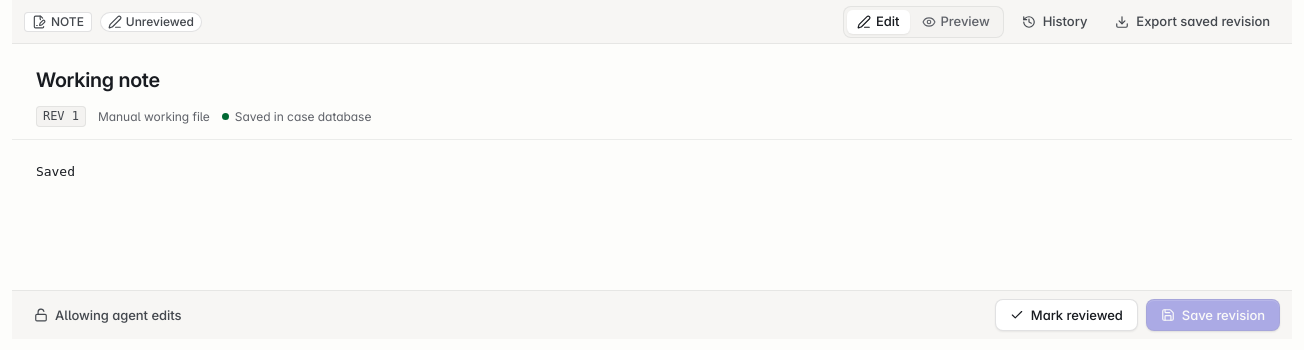
Scenario: switches between editing and preview with pressed-state buttons
This screenshot has width=1304, height=350.
Click the button "Preview": (956, 22) top-left (912, 10), bottom-right (1000, 34)
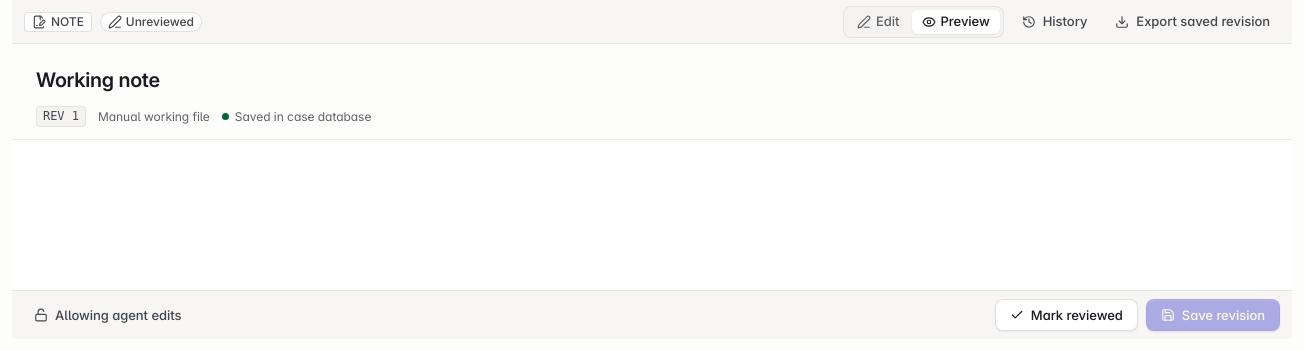
Result: the button "Preview" is pressed at top-left (912, 10), bottom-right (1000, 34)
Click the button "Edit": (878, 22) top-left (847, 10), bottom-right (910, 34)
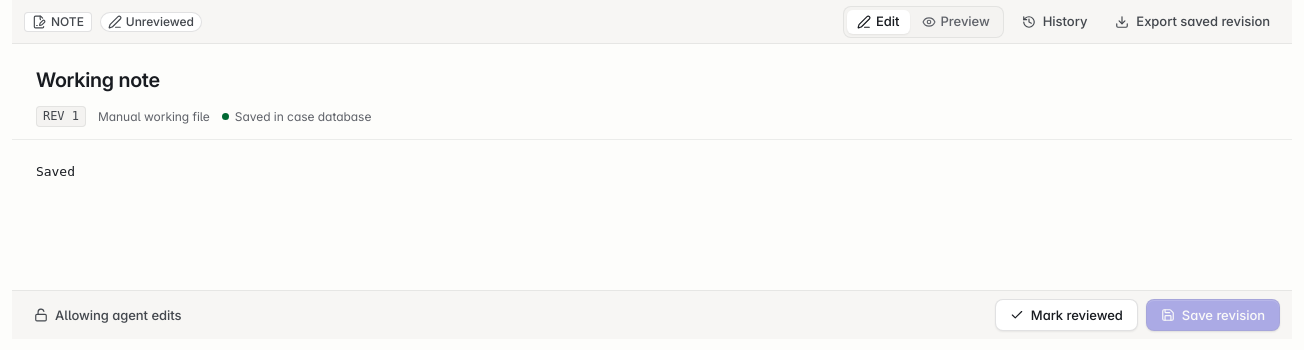
Result: the text box named "Working file content" is shown at top-left (12, 140), bottom-right (1292, 290)
